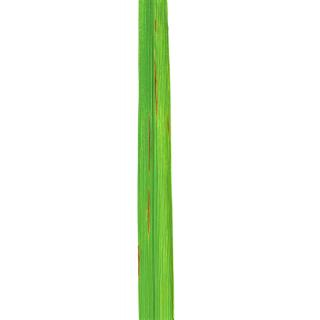Bercak-Cokelat-Sempit: (144, 116, 157, 174), (151, 51, 162, 114), (143, 186, 152, 237), (153, 16, 160, 40), (138, 242, 142, 274), (165, 115, 171, 135)
